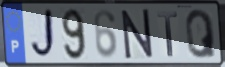6: (92, 8, 119, 61)
9: (59, 7, 87, 62)
J: (29, 7, 58, 62)
N: (120, 8, 155, 62)
Q: (184, 8, 218, 60)
T: (156, 11, 179, 58)
